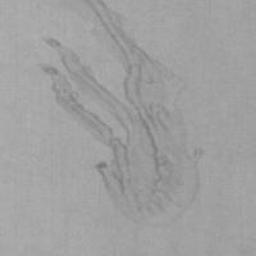Water spot: (41, 0, 204, 229)
